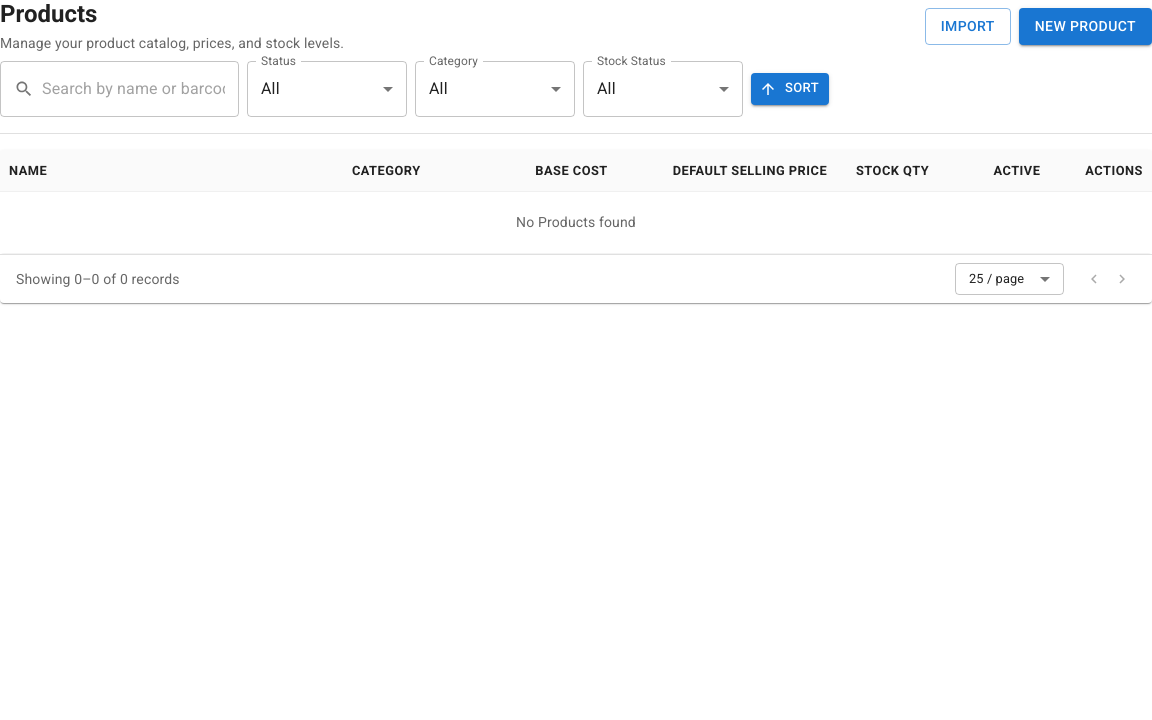
Test: ProductsPage › opens the import dialog when Import is clicked
The width and height of the screenshot is (1152, 720).
Click the button "Import". click: click(968, 26)
box: x1=925 y1=8 x2=1011 y2=45
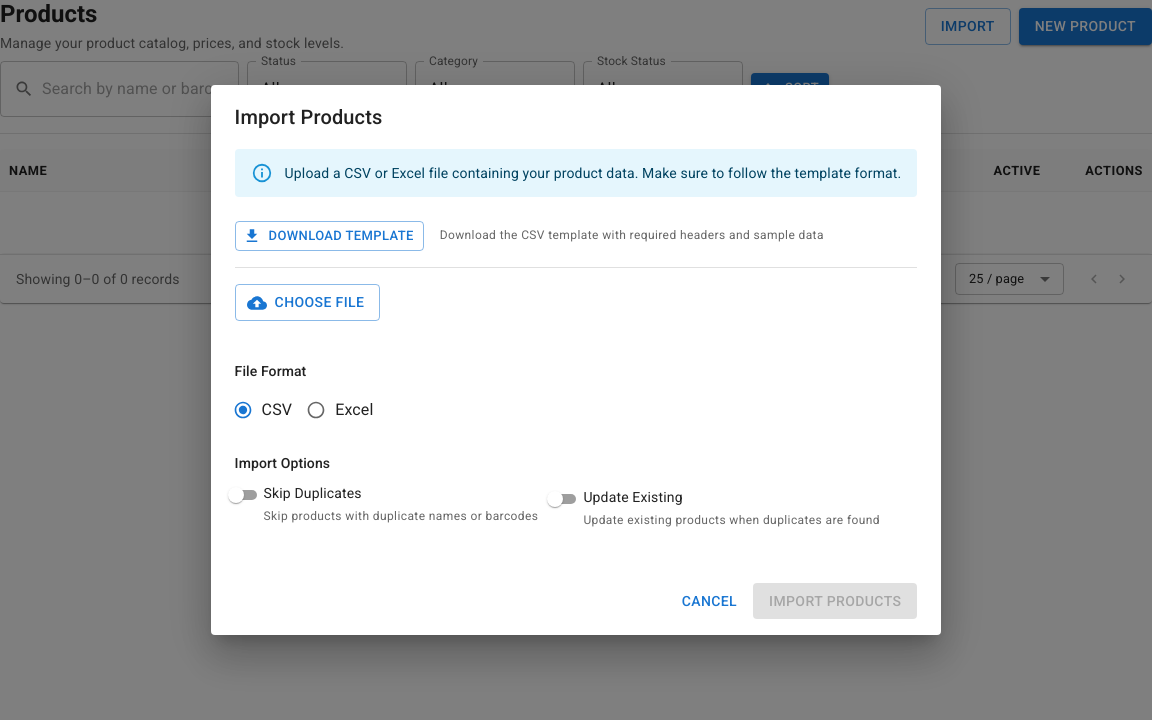
Expected: the dialog is shown, x1=211 y1=85 x2=941 y2=635
